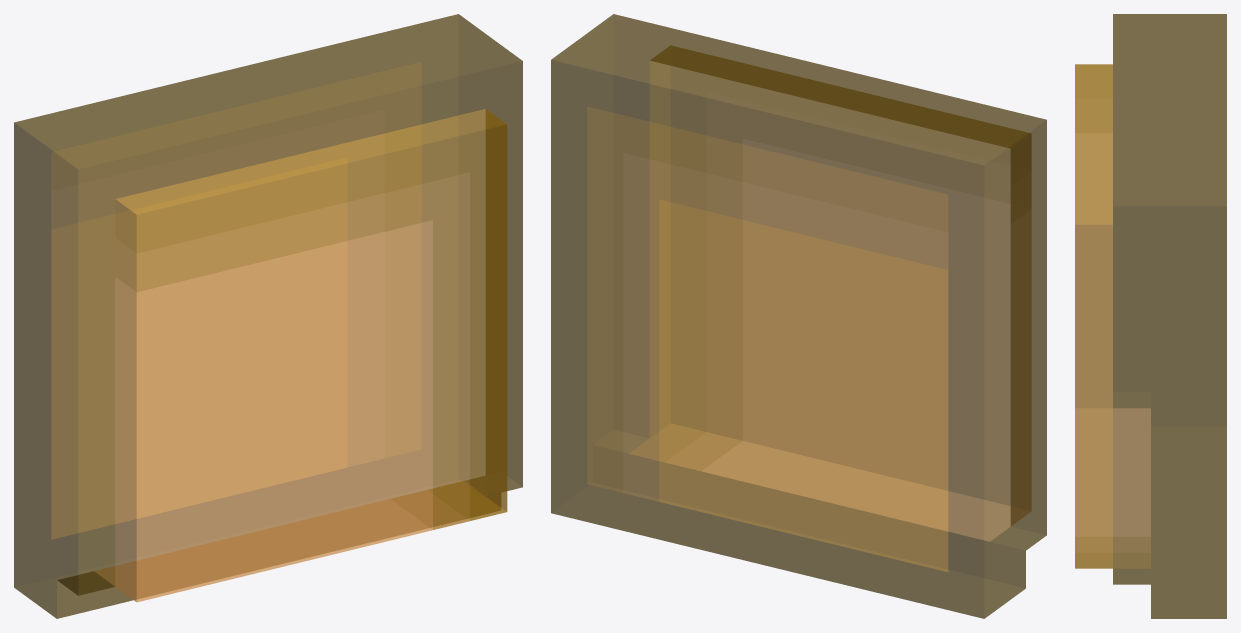
The model's file is screen_orange.glb.
The picture shows the model from 3 angles, left to right: view 1: azimuth 30°, elevation 25°; view 2: azimuth 150°, elevation 25°; view 3: azimuth 270°, elevation 25°; orthographic projection. The views are drawn at different scales.
Parts seen in each view (by area): view 1: bb0 screen; view 2: bb0 screen; view 3: bb0 screen.
Boxes of the visible parts, left/top/right/bottom form: bb0 screen: left=14, top=14, right=522, bottom=618; bb0 screen: left=551, top=14, right=1046, bottom=618; bb0 screen: left=1075, top=14, right=1226, bottom=618.
Size of the model in its own units: 12 by 12 by 4.
